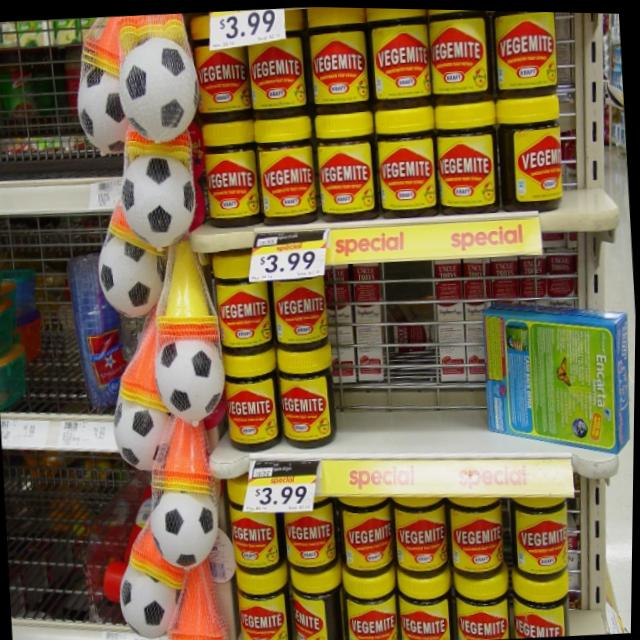q64: (496, 92, 575, 211), (430, 98, 507, 209), (275, 344, 346, 458), (207, 249, 278, 361), (371, 104, 442, 215), (256, 112, 323, 225), (314, 110, 382, 218), (198, 118, 264, 229), (306, 6, 375, 110), (365, 6, 431, 109), (490, 9, 566, 97), (222, 472, 286, 575), (431, 8, 496, 105), (284, 483, 343, 572), (512, 493, 577, 573), (193, 42, 254, 125), (448, 491, 508, 574), (250, 38, 313, 116), (225, 350, 279, 439), (395, 492, 451, 577), (452, 566, 516, 640), (340, 491, 398, 572), (273, 269, 334, 345), (512, 570, 583, 635), (398, 567, 457, 640), (291, 567, 347, 640), (342, 570, 398, 640), (239, 571, 293, 640)
